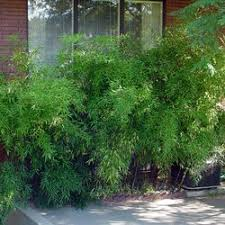bamboo: (2, 54, 225, 170), (4, 118, 129, 210), (65, 40, 189, 86), (162, 5, 224, 64)
